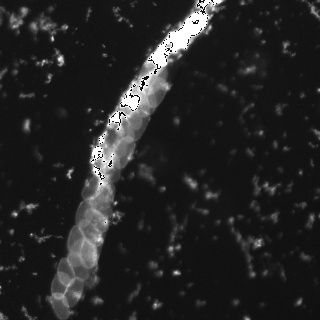embryo: (100, 131, 127, 158), (112, 136, 134, 169), (141, 67, 169, 92), (82, 174, 108, 200), (127, 110, 149, 140), (63, 277, 84, 308), (114, 113, 135, 144), (90, 182, 115, 208), (80, 219, 103, 247), (67, 252, 88, 282), (148, 76, 168, 106), (76, 198, 96, 227), (121, 103, 142, 130), (79, 239, 98, 268), (138, 60, 159, 86), (51, 272, 71, 299), (86, 209, 109, 232), (57, 258, 75, 286), (138, 86, 156, 114), (51, 293, 70, 319), (68, 225, 85, 254), (104, 153, 120, 182), (68, 239, 85, 266)
